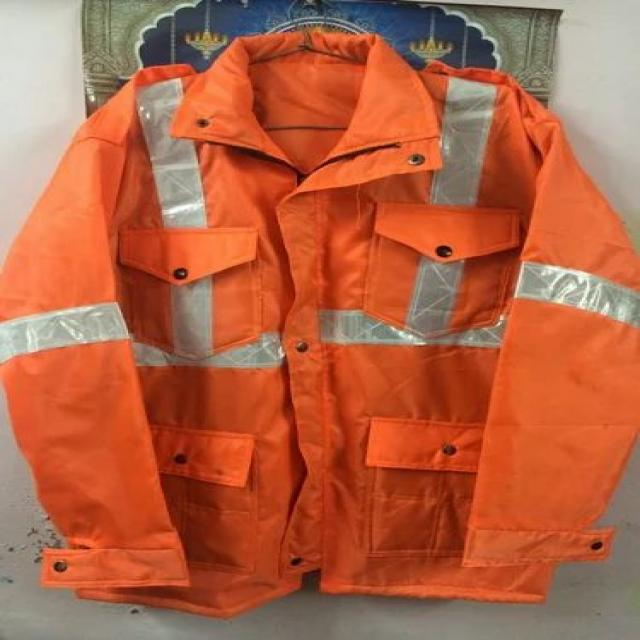Reflective-Jacket: (17, 10, 640, 640)
